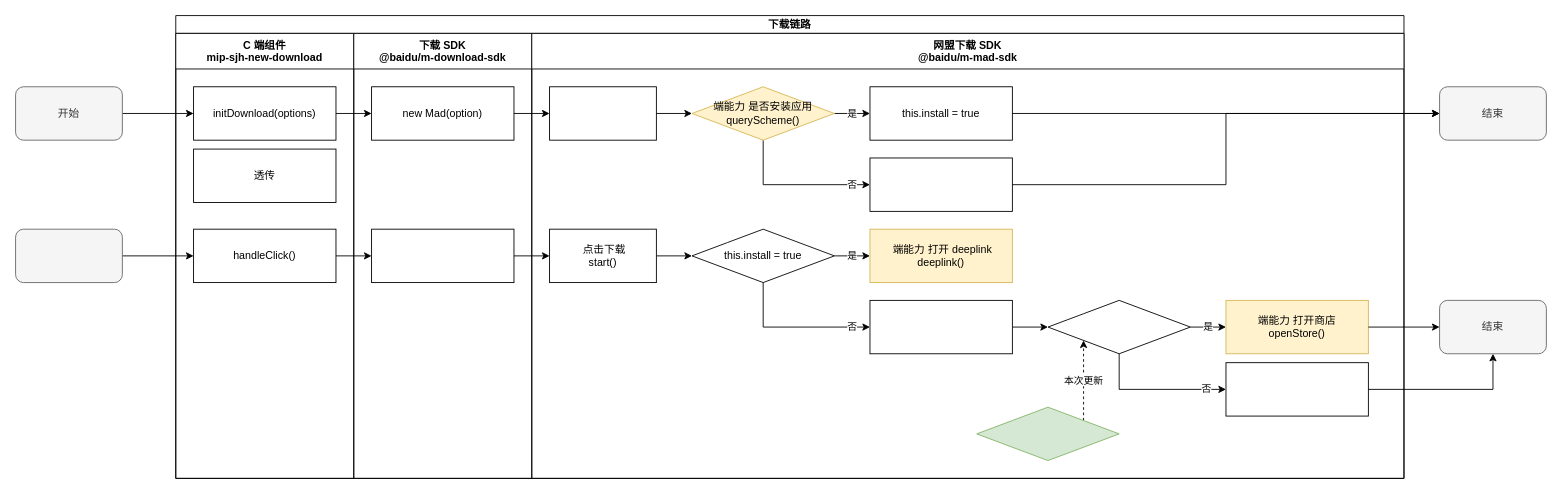
The diagram is 1562 pixels wide and 494 high, and some of its shapes have lost their labels. The shapes that lost their labels are listed below. From the top down, each one's centre as x and y in pixels, then its label:
At (x=602, y=113): "初始化 initAppStatus()".
At (x=940, y=184): "this.install = false".
At (x=68, y=255): "点击".
At (x=442, y=255): "startDownload()".
At (x=940, y=326): "直投 directLaunch()".
At (x=1118, y=326): "是否为 iOS 下的手百".
At (x=1296, y=389): "页面跳转 打开商店 https://itunes.apple.com".
At (x=1047, y=433): "是否为 iOS 网盟 且处于激励计划".
